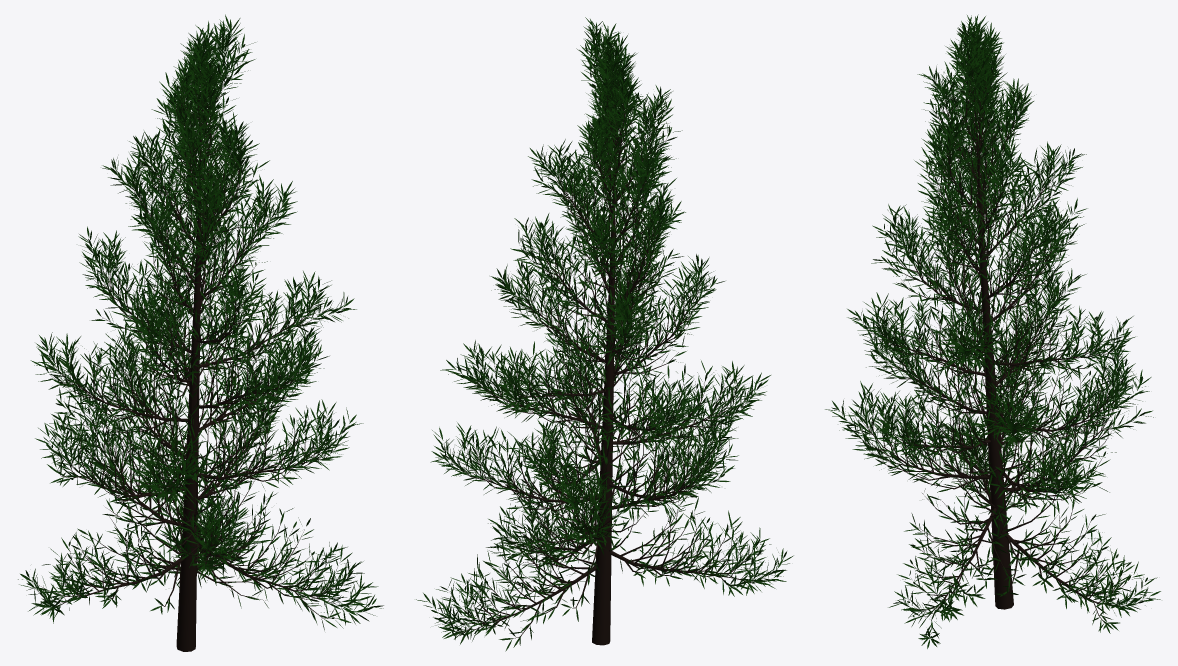
The model's file is Pine.obj.
The picture shows the model from 3 angles, left to right: view 1: azimuth 30°, elevation 25°; view 2: azimuth 150°, elevation 25°; view 3: azimuth 270°, elevation 25°; orthographic projection. The views are drawn at different scales.
Parts seen in each view (by area): view 1: leaves, tree_Mesh; view 2: leaves, tree_Mesh; view 3: leaves, tree_Mesh.
Boxes of the visible parts, x1,y1,x2,y2 form: leaves: (18,14,383,630); tree_Mesh: (35,53,352,651); leaves: (416,17,793,651); tree_Mesh: (439,49,769,645); leaves: (825,14,1160,648); tree_Mesh: (850,46,1142,633).
Size of the model in its own units: 4.38 by 7.95 by 4.1.
